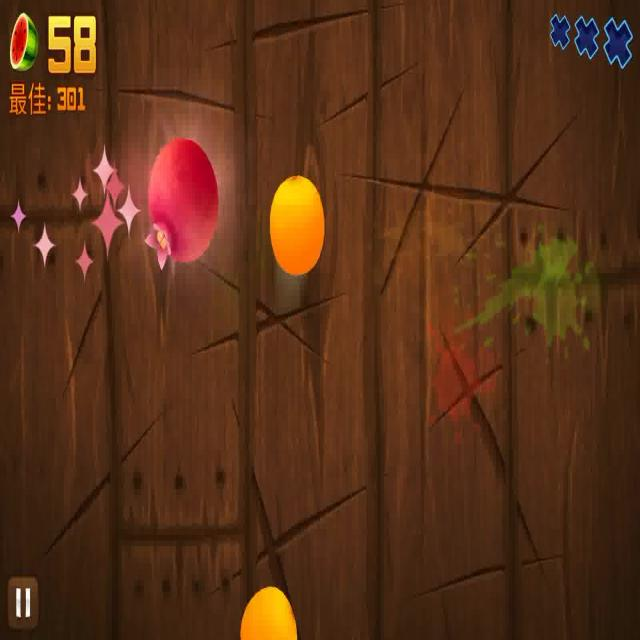fruit: (147, 136, 215, 262), (272, 172, 325, 276), (240, 582, 300, 640)
